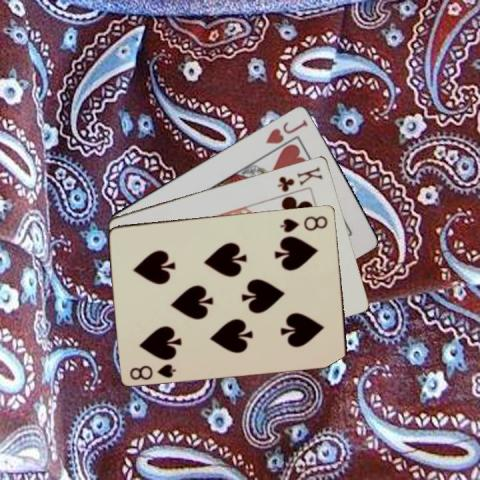8s: (278, 213, 330, 233), (127, 361, 177, 381)
Jh: (263, 117, 309, 145)
Kc: (275, 163, 324, 193)
